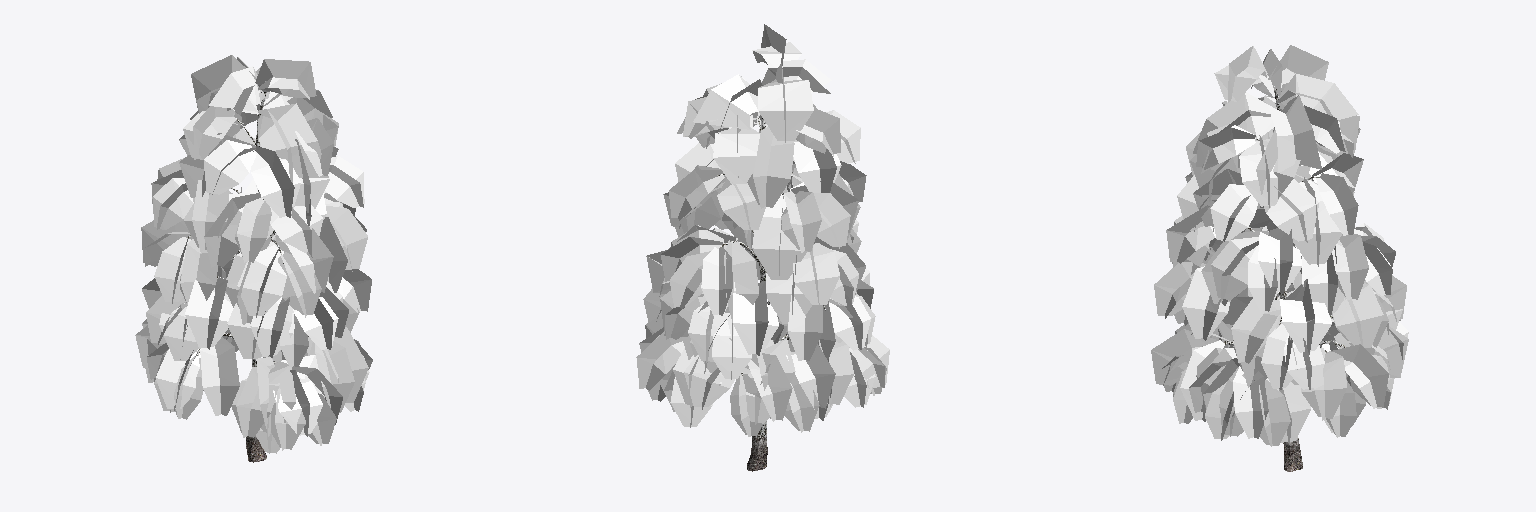
3 renders of one model, left to right at view 1: azimuth 30°, elevation 25°; view 2: azimuth 150°, elevation 25°; view 3: azimuth 270°, elevation 25°, orthographic.
Visible parts, largest first — view 1: tree; view 2: tree; view 3: tree.
Part boxes in pixels (x1,y1,x2,y2): tree: (135,55,372,462); tree: (636,24,889,471); tree: (1151,45,1408,471).
Size of the model in its own units: 53.61 by 98.2 by 55.2.
2 materials, 1 textured.